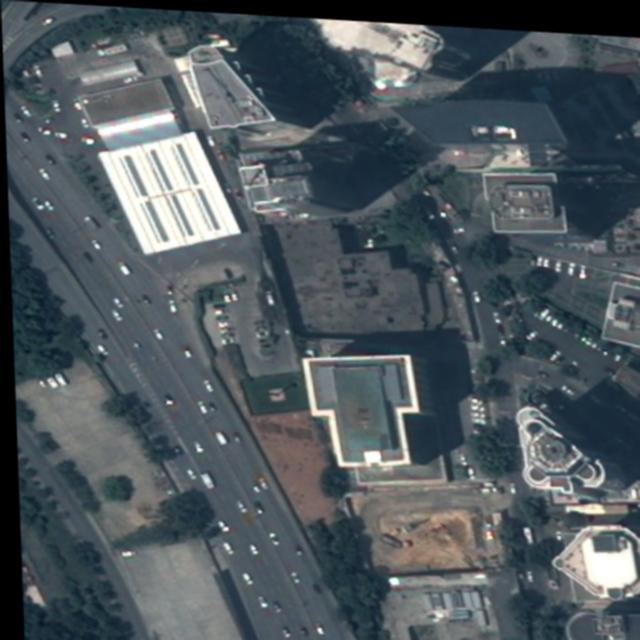Batiment: (97, 130, 243, 251), (302, 352, 413, 462), (174, 44, 273, 126), (512, 401, 599, 487), (548, 518, 640, 593), (236, 146, 310, 212), (483, 167, 565, 226), (81, 77, 172, 124), (561, 604, 640, 640), (600, 275, 640, 340)
